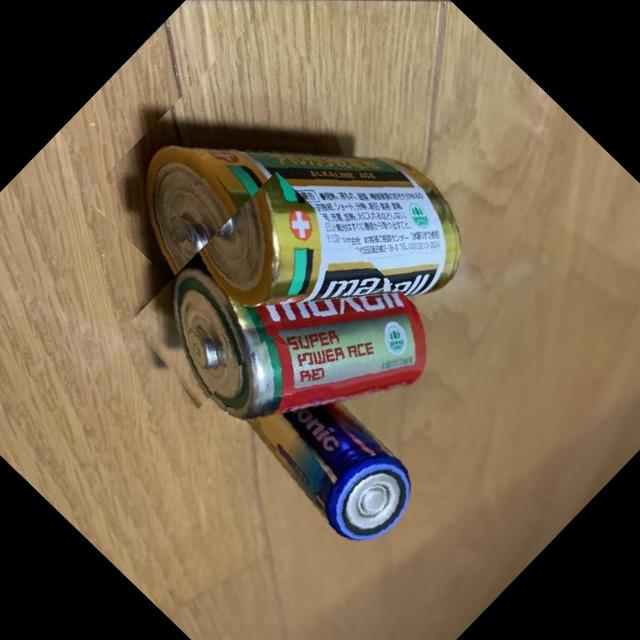Hazard: (83, 8, 503, 426), (111, 171, 461, 520), (179, 330, 445, 592)
